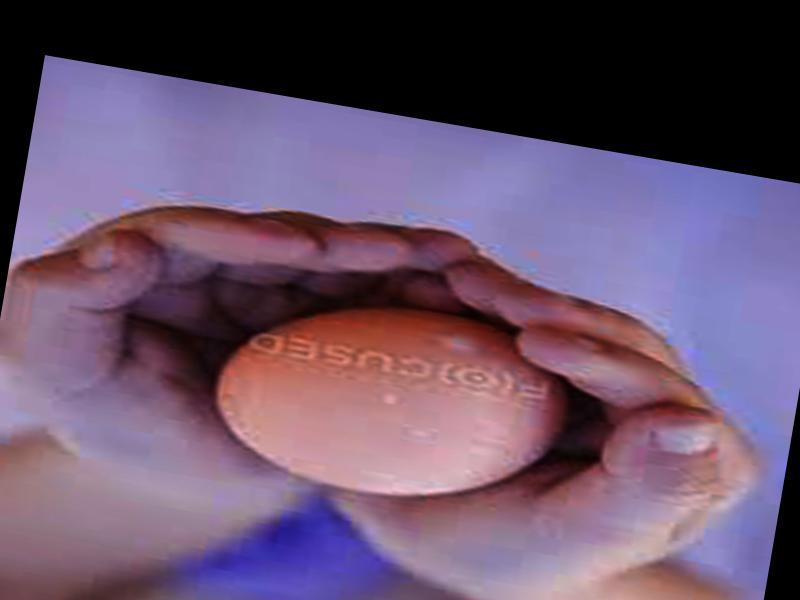Eggs: (196, 276, 577, 524)
